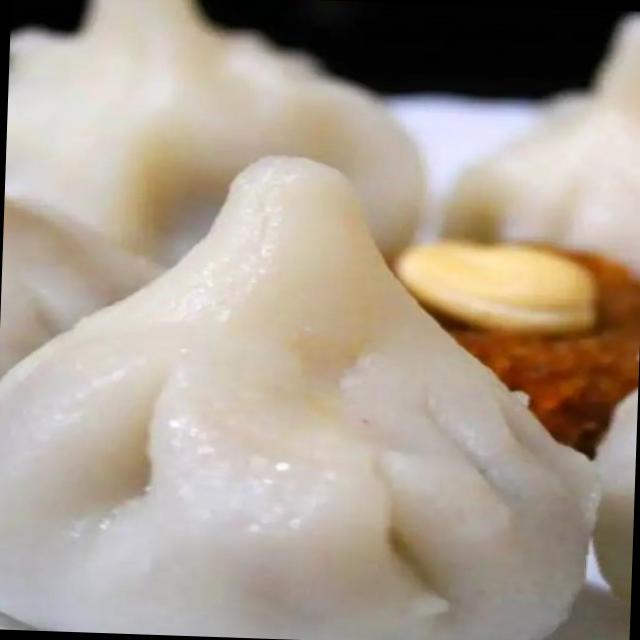modak: (22, 57, 640, 640)
